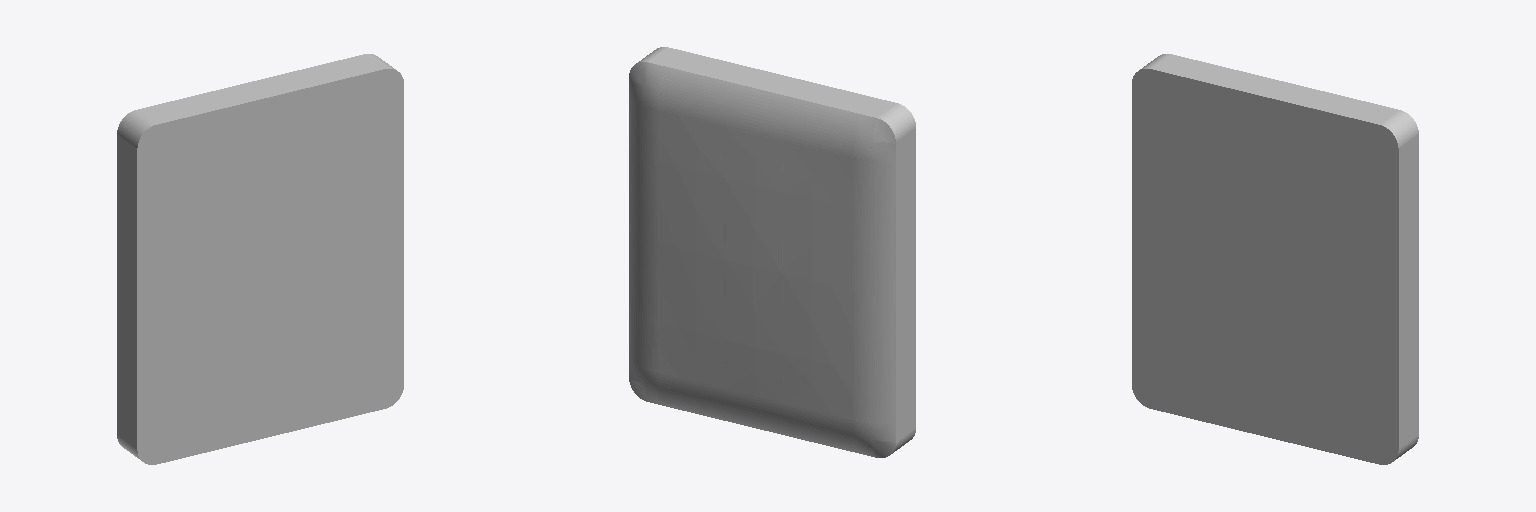
The model's file is gsmini_elastomer_transformed_enclosed.obj.
The picture shows the model from 3 angles: view 1: azimuth 30°, elevation 25°; view 2: azimuth 150°, elevation 25°; view 3: azimuth 330°, elevation 25°; orthographic projection.
Bounding box in the file's own units: 0.0208 × 0.0252 × 0.004.